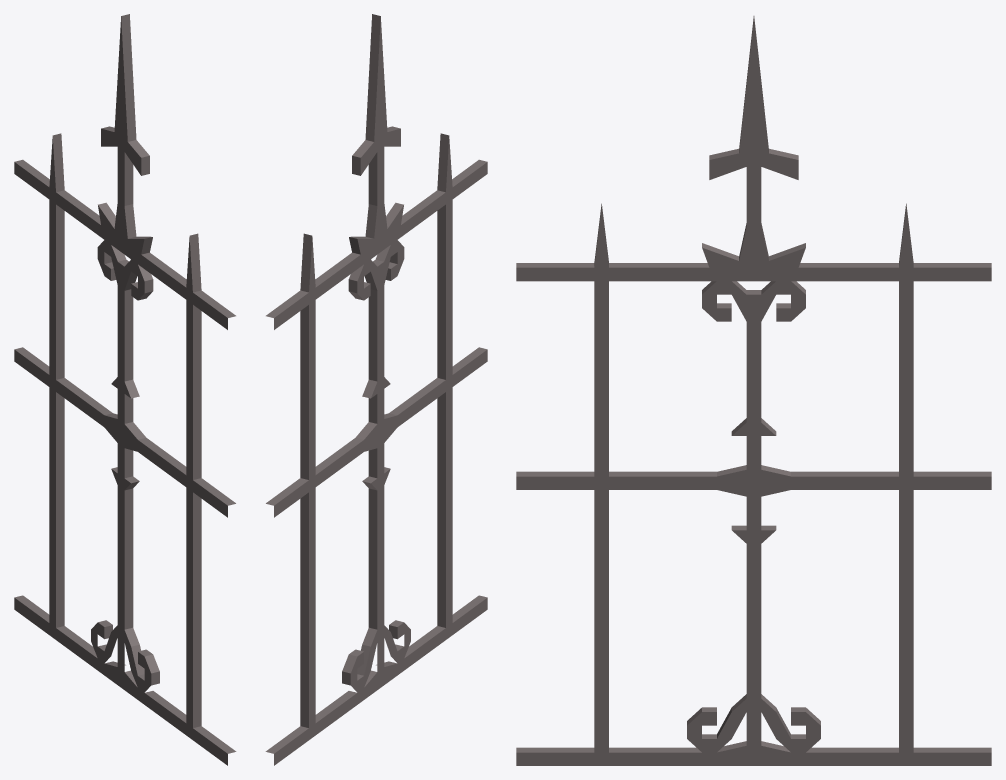
3 views of the same model, side by side, from view 1: azimuth 30°, elevation 25°; view 2: azimuth 150°, elevation 25°; view 3: azimuth 270°, elevation 25° (orthographic). The views are drawn at different scales.
Size of the model in its own units: 3 by 222 by 128.
1 material, 1 textured.
